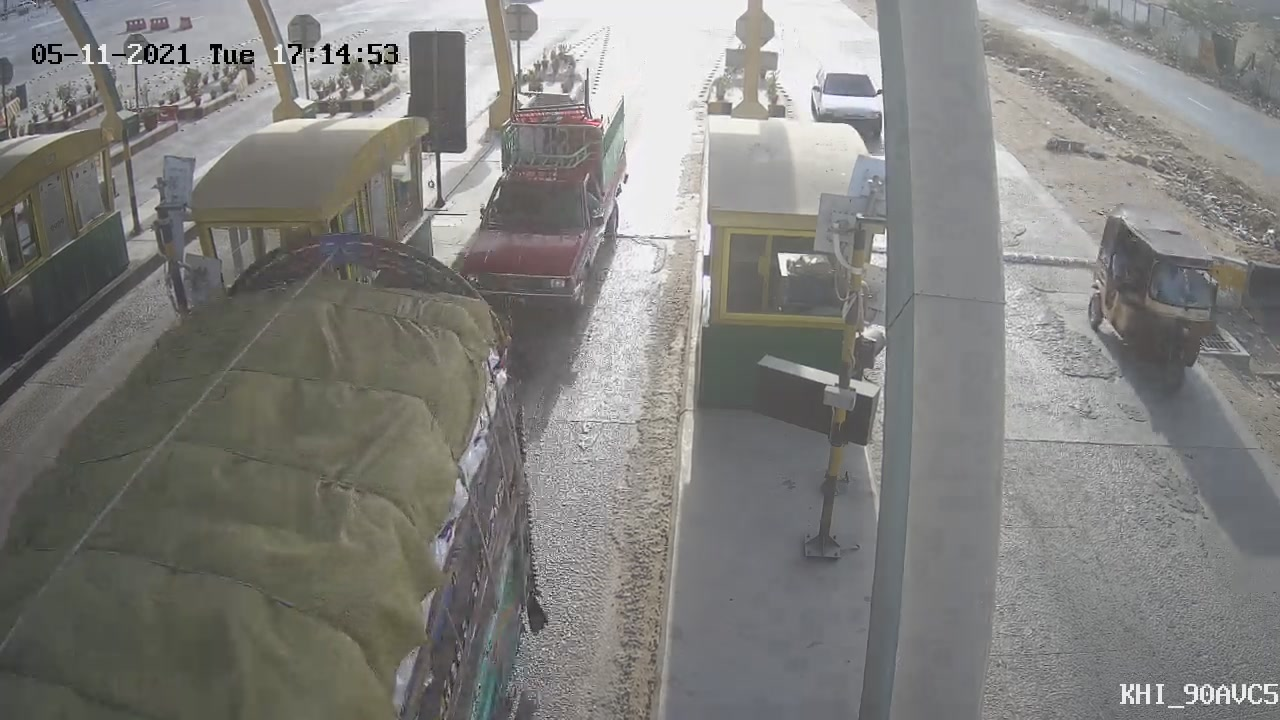F1: (437, 78, 643, 334)
